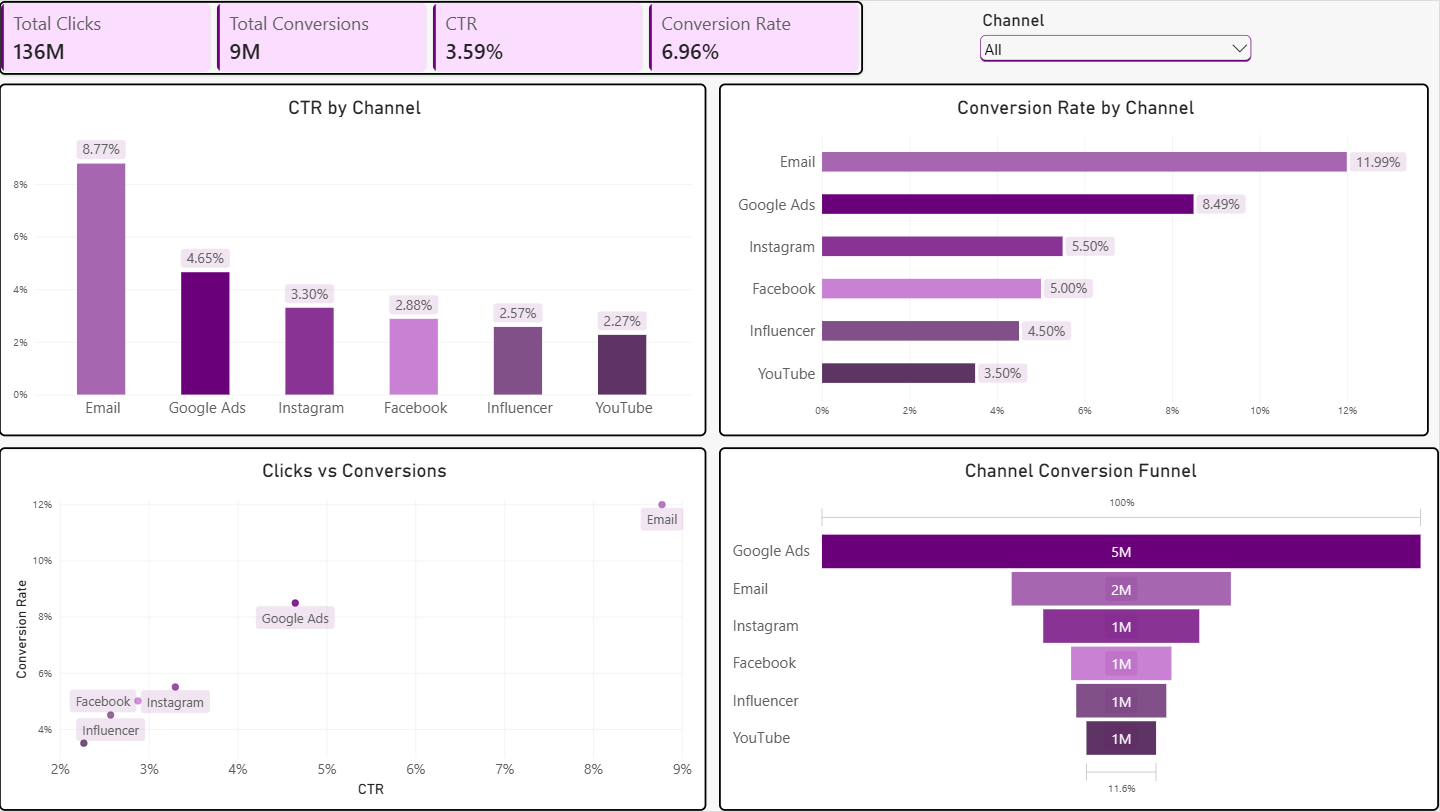

What the dashboard file says about the page in this screenshot:
{"tool":"powerbi","page":{"name":"Channel Performance Analysis","canvas":[1920,1080],"ordinal":1},"visuals":[{"type":"cardVisual","fields":{"Data":["Sum(public marketing_cleaned.clicks)","Sum(public marketing_cleaned.conversions)","public marketing_cleaned.CTR","public marketing_cleaned.Conversion Rate"]},"box":[0,0,1151.7,98.3],"z":0},{"type":"clusteredColumnChart","title":"CTR by Channel","fields":{"Category":["public marketing_cleaned.channel"],"Y":["public marketing_cleaned.CTR"]},"box":[0,110,943.3,470],"z":1000},{"type":"clusteredBarChart","title":"Conversion Rate by Channel","fields":{"Category":["public marketing_cleaned.channel"],"Y":["public marketing_cleaned.Conversion Rate"]},"box":[960,110,946.7,470],"z":2000},{"type":"scatterChart","title":"Clicks vs Conversions","fields":{"Category":["public marketing_cleaned.channel"],"X":["public marketing_cleaned.CTR"],"Y":["public marketing_cleaned.Conversion Rate"]},"box":[0,595,943.3,485],"z":3000},{"type":"funnel","title":"Channel Conversion Funnel","fields":{"Category":["public marketing_cleaned.channel"],"Y":["Sum(public marketing_cleaned.conversions)"]},"box":[960,595,960,485],"z":4000},{"type":"slicer","fields":{"Values":["public marketing_cleaned.campaign_type"]},"box":[1303.3,11.7,371.7,98.3],"z":5000}]}

Visuals, with their boxes in screenshot pixels (x1, y1, x2, y2), scaled from the page's 1920x1080 canvas onto the 1440x812 screenshot:
cardVisual - Sum(public marketing_cleaned.clicks) x Sum(public marketing_cleaned.conversions): select_region(0, 0, 864, 74)
"CTR by Channel" clusteredColumnChart: select_region(0, 83, 707, 436)
"Conversion Rate by Channel" clusteredBarChart: select_region(720, 83, 1430, 436)
"Clicks vs Conversions" scatterChart: select_region(0, 447, 707, 811)
"Channel Conversion Funnel" funnel: select_region(720, 447, 1439, 811)
slicer - public marketing_cleaned.campaign_type: select_region(977, 9, 1256, 83)
